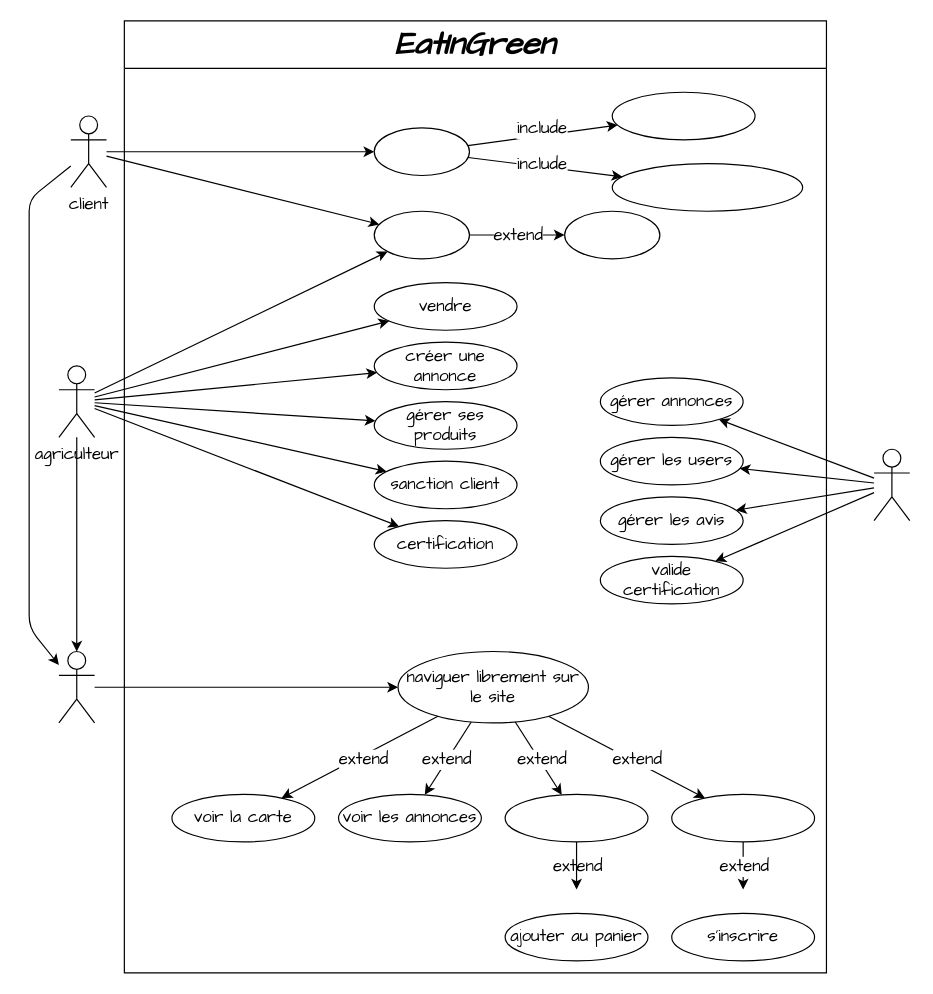
The diagram is 933 pixels wide and 994 high, and some of its shapes have lost their labels. The shapes that lost their labels are listed below. From the top down, each one's centre as x and y in pixels, then its label:
(x=683, y=115): donner un avis
(x=421, y=151): acheter
(x=707, y=186): ticket de commande / réservation
(x=421, y=234): profil
(x=611, y=234): modifier
(x=891, y=484): admin
(x=76, y=686): visiteur
(x=576, y=817): voir le panier
(x=743, y=817): se connecter
